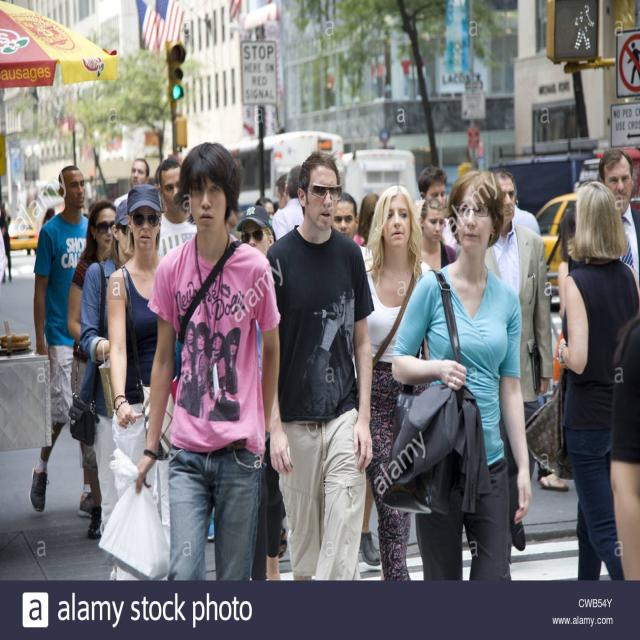body: (98, 141, 282, 581), (390, 166, 533, 582), (264, 147, 374, 581), (555, 179, 640, 582), (351, 183, 432, 581), (472, 162, 566, 498), (106, 186, 178, 582), (27, 162, 105, 520), (484, 171, 556, 553), (81, 196, 134, 542), (67, 197, 118, 538), (609, 308, 640, 584), (597, 147, 640, 291), (236, 171, 300, 250), (156, 156, 198, 258), (260, 437, 288, 575), (418, 196, 458, 271), (556, 198, 578, 322), (335, 188, 379, 245), (236, 204, 275, 260), (0, 198, 16, 285), (415, 161, 450, 196), (121, 155, 151, 187), (41, 201, 56, 225)
